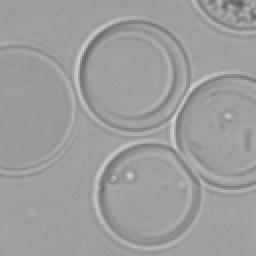picoshell: (74, 16, 190, 134), (92, 140, 202, 250), (0, 40, 76, 176), (170, 72, 254, 192), (190, 0, 254, 34)
